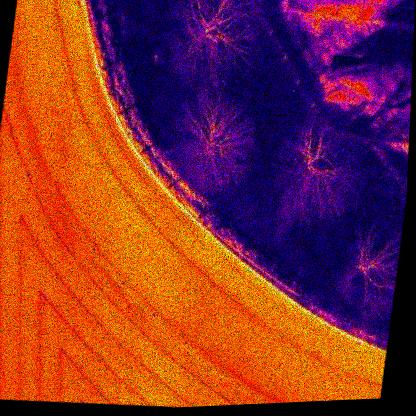Shadow: (354, 58, 382, 79), (326, 69, 353, 90), (379, 60, 406, 81), (331, 54, 357, 73), (351, 74, 378, 92), (360, 4, 387, 22), (323, 87, 351, 104), (311, 0, 339, 16), (350, 89, 376, 106), (337, 2, 363, 19), (385, 7, 410, 24), (387, 0, 412, 11), (408, 11, 415, 28), (410, 0, 415, 13)
